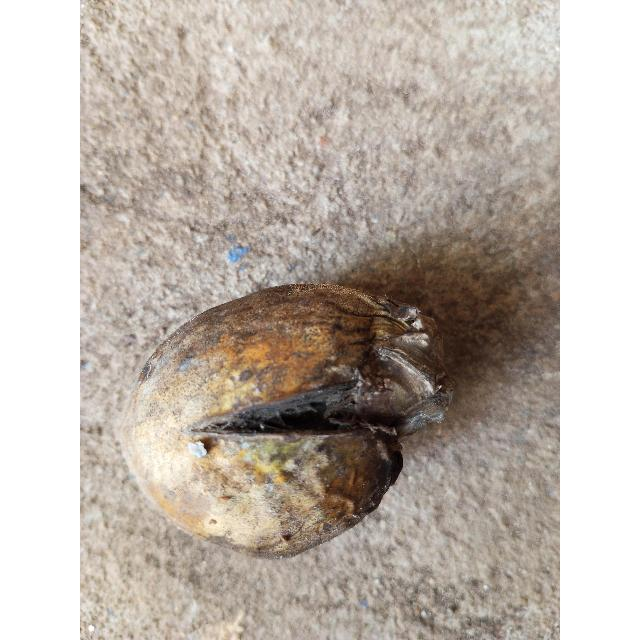damaged: (121, 284, 453, 559)
